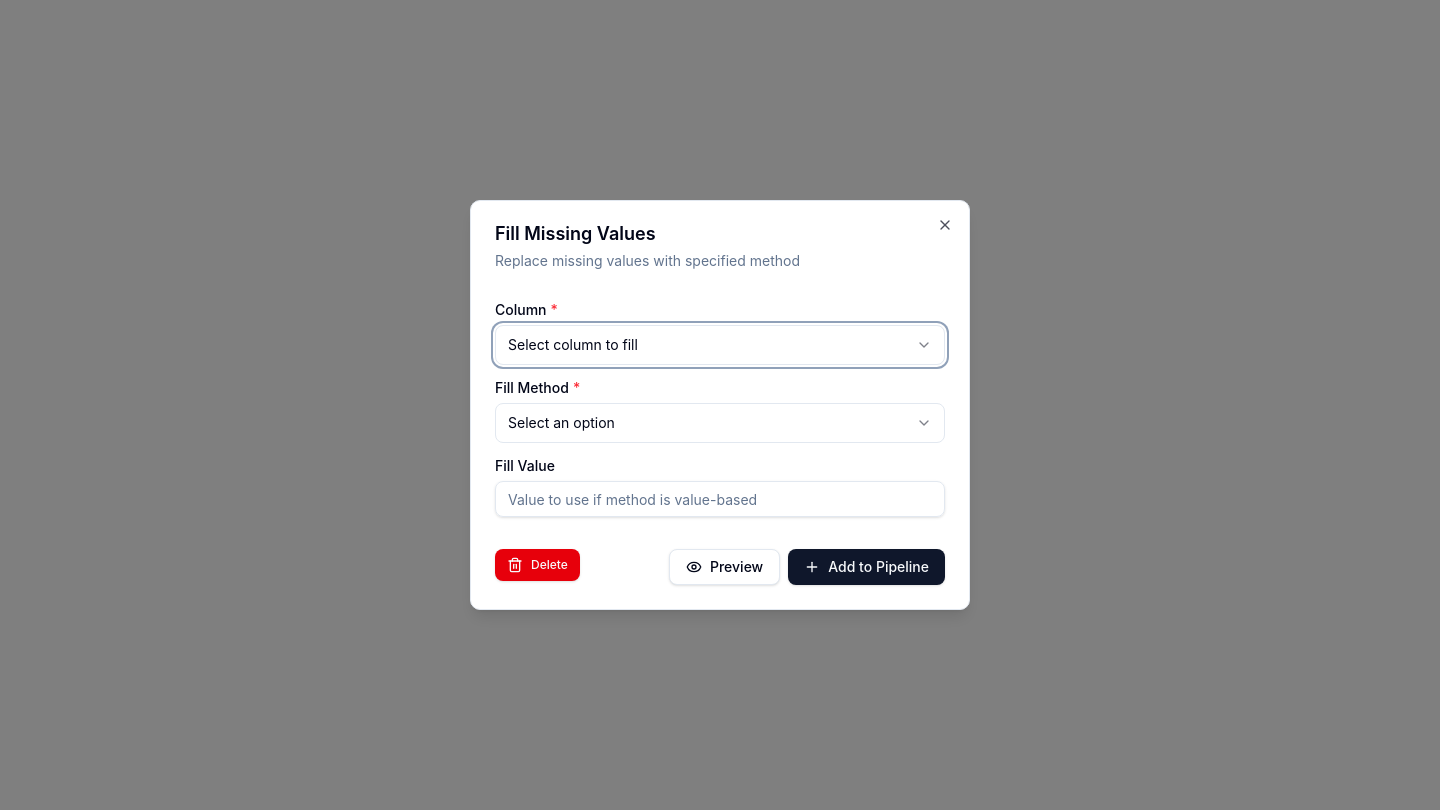
TransformationConfigDialog › Enum Select Parameters › renders select dropdown with enum options
Click the dropdown named "Fill Method". click: (561, 422)
box: [495,403,945,443]
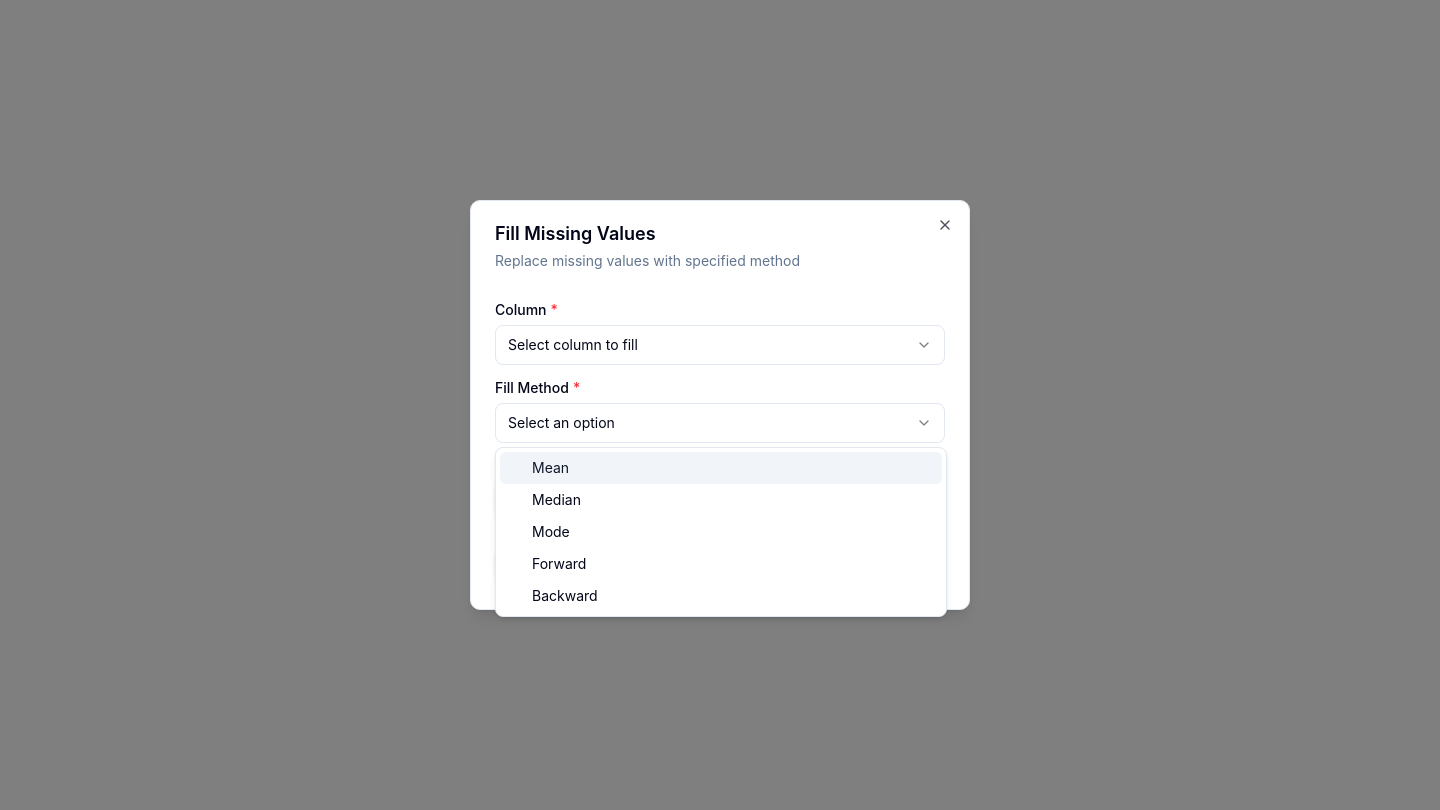
Expected: the text "Mean" is shown, [532,458,569,478]
Expected: the text "Median" is shown, [532,490,581,510]
Expected: the text "Mode" is shown, [532,522,570,542]
